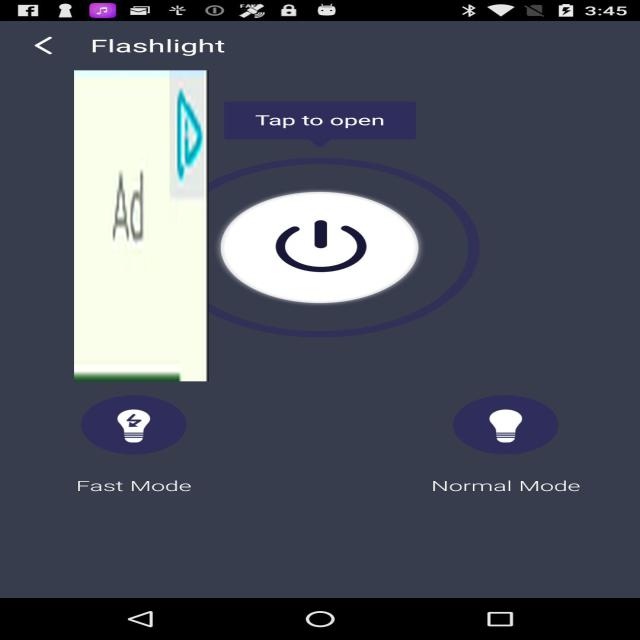sneaking: (74, 70, 209, 382)
